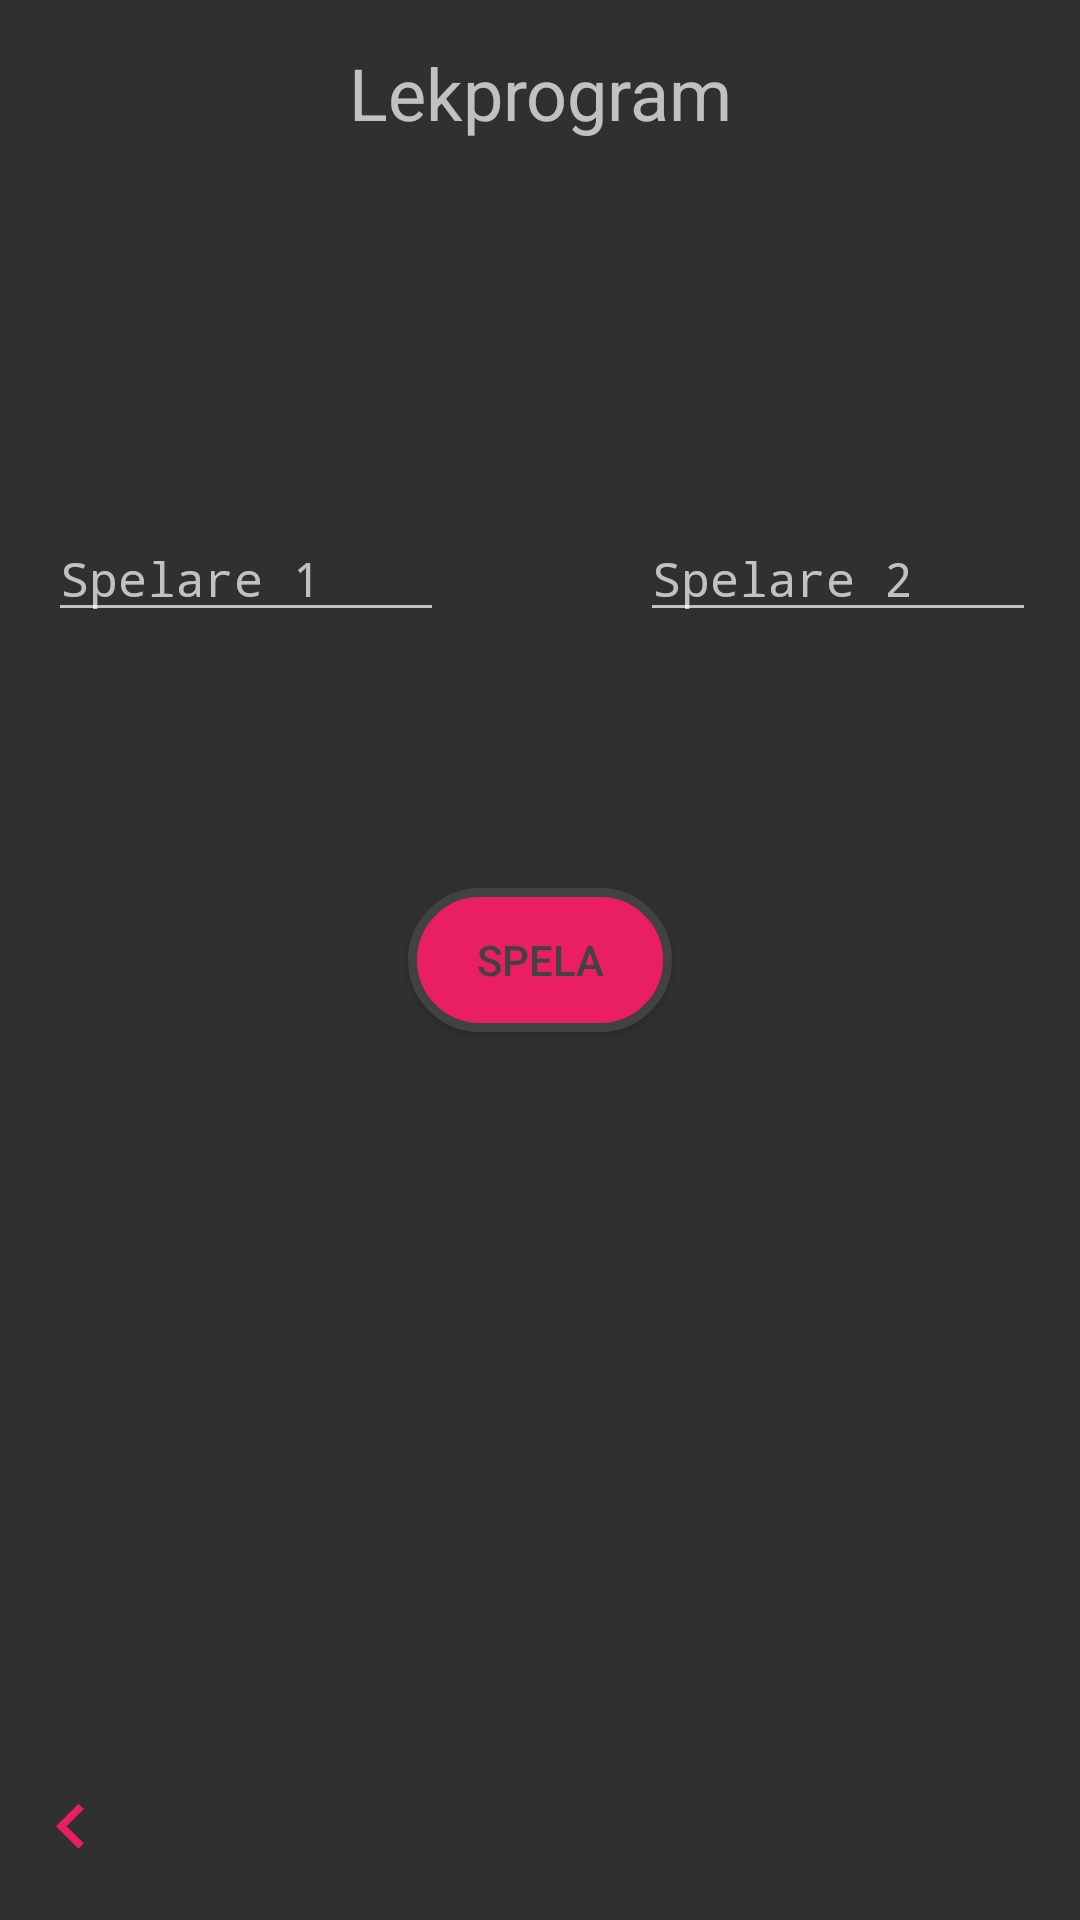

Icon click points for this 1080×1920 phone screenshot, format point (x, y):
keyboard arrow left: point (70, 1826)
